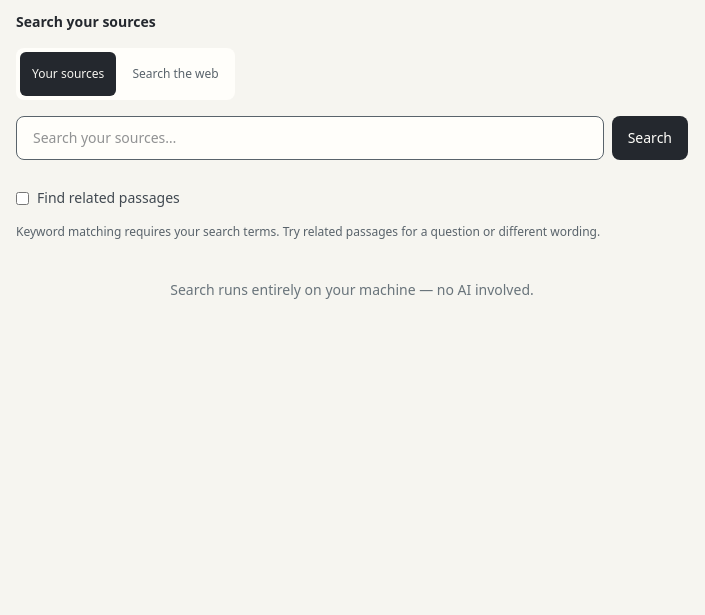
it: two sources render two groups with headers and counts
Type "cells" into the search field with placeholder "Search your sources…". click: {"x": 310, "y": 138}
box: top-left (16, 116), bottom-right (604, 160)
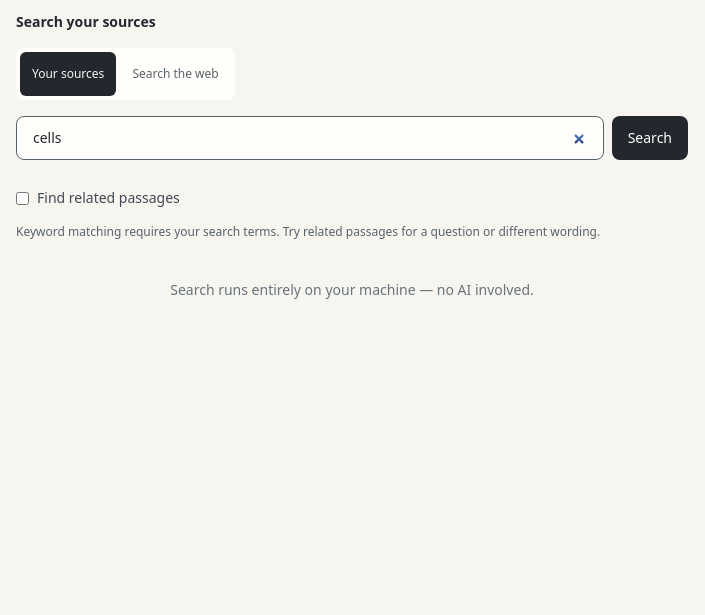
Click the button with aria-label "submit search". click: {"x": 650, "y": 138}
box: top-left (612, 116), bottom-right (688, 160)
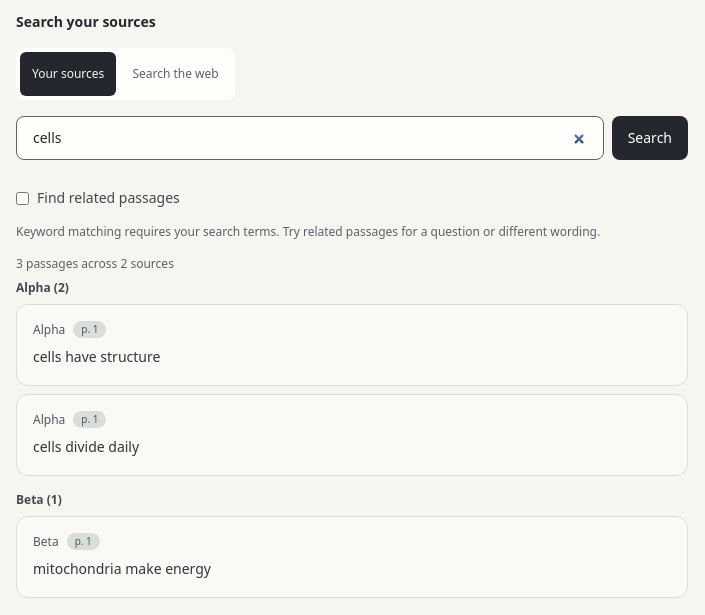
Now the number of elements with test id "search-source-group" is 2, box top-left (16, 280), bottom-right (688, 476); top-left (16, 492), bottom-right (688, 598)
Now the element with test id "search-source-group" shows "Alpha", box top-left (16, 279), bottom-right (51, 296)
Now the element with test id "search-source-group" shows "2", box top-left (58, 279), bottom-right (65, 296)
